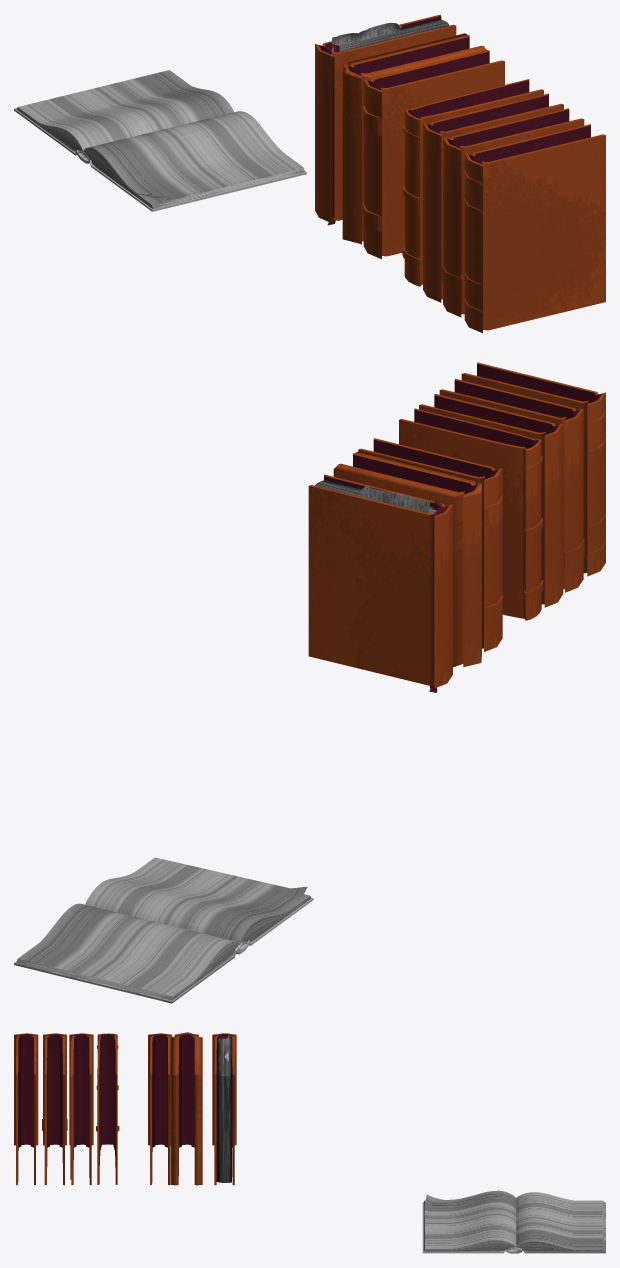
Rendered from books.fbx.
The picture shows the model from 3 angles, top to bottom: view 1: azimuth 30°, elevation 25°; view 2: azimuth 150°, elevation 25°; view 3: azimuth 270°, elevation 25°; orthographic projection. The views are drawn at different scales.
Visible parts, largest first — view 1: pCube15, pCube14, page, pages, pCube11, pCube9, pCube13, pCube12, pCube10, pages1, pages2, cover (+1 smaller); view 2: pCube9, pages, pCube10, page, pCube11, pCube15, pCube12, pCube13, pCube14, cover, paper; view 3: pages, page, pCube11, pCube12, pCube15, pCube13, pCube14, pCube10, pages2, pCube9, cover, pages1.
Boxes of the visible parts, left/top/right/bottom form: pCube15: left=464, top=124, right=605, bottom=333; pCube14: left=363, top=50, right=504, bottom=259; page: left=84, top=111, right=303, bottom=199; pages: left=16, top=70, right=233, bottom=152; pCube11: left=342, top=33, right=487, bottom=244; pCube9: left=315, top=14, right=456, bottom=223; pCube13: left=442, top=108, right=584, bottom=317; pCube12: left=423, top=93, right=563, bottom=302; pCube10: left=402, top=79, right=543, bottom=286; pages1: left=83, top=148, right=304, bottom=208; pages2: left=321, top=19, right=449, bottom=217; cover: left=14, top=108, right=306, bottom=211; pCube9: left=308, top=474, right=452, bottom=688; pages: left=16, top=903, right=240, bottom=1000; pCube10: left=399, top=408, right=543, bottom=620; page: left=85, top=857, right=307, bottom=942; pCube11: left=333, top=450, right=481, bottom=667; pCube15: left=461, top=362, right=605, bottom=576; pCube12: left=419, top=394, right=563, bottom=607; pCube13: left=439, top=378, right=584, bottom=592; pCube14: left=358, top=438, right=502, bottom=651; cover: left=14, top=897, right=313, bottom=1003; paper: left=360, top=486, right=429, bottom=513; pages: left=516, top=1192, right=604, bottom=1251; page: left=424, top=1190, right=516, bottom=1249; pCube11: left=170, top=1032, right=202, bottom=1185; pCube12: left=69, top=1033, right=93, bottom=1185; pCube15: left=14, top=1033, right=38, bottom=1185; pCube13: left=42, top=1033, right=67, bottom=1185; pCube14: left=148, top=1033, right=172, bottom=1185; pCube10: left=96, top=1033, right=119, bottom=1184; pages2: left=216, top=1038, right=231, bottom=1182; pCube9: left=212, top=1033, right=236, bottom=1185; cover: left=422, top=1202, right=605, bottom=1253; pages1: left=423, top=1200, right=515, bottom=1251.
Bounding box in the file's own units: 1.81 × 3.07 × 9.06.
